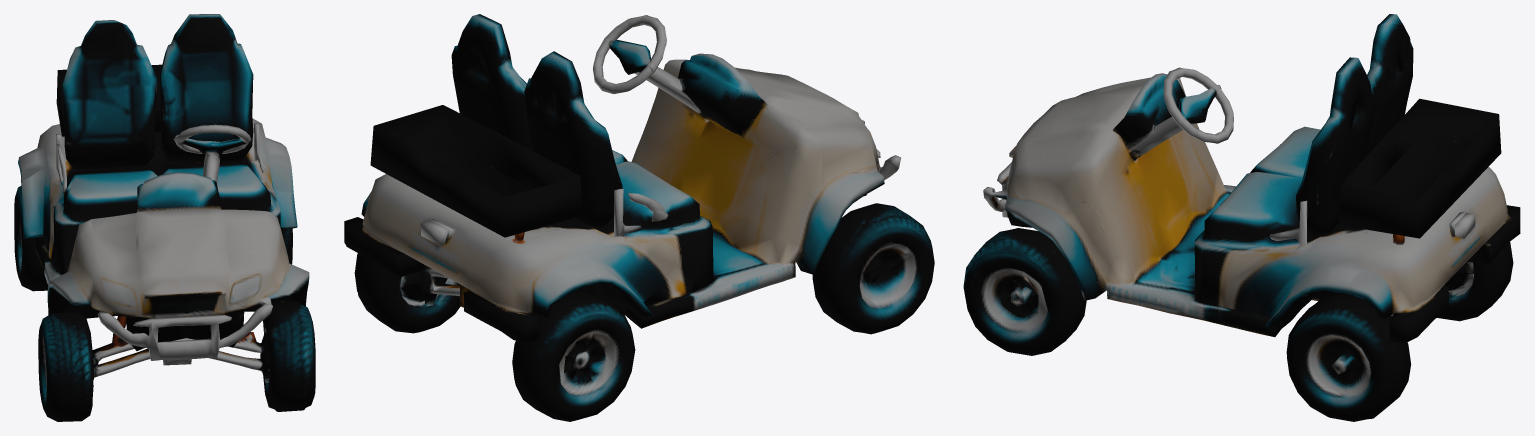
File: golf-cart.glb
3 renders of one model, left to right at view 1: azimuth 30°, elevation 25°; view 2: azimuth 150°, elevation 25°; view 3: azimuth 270°, elevation 25°, orthographic. The views are drawn at different scales.
Parts seen in each view (by area): view 1: tripo_part_72, passengerseat, driverseat, WHEEL_FR, WHEEL_FL, tripo_part_29, WHEEL_RR, steering; view 2: tripo_part_72, WHEEL_FR, WHEEL_RR, passengerseat, driverseat, WHEEL_RL, tripo_part_29, steering; view 3: tripo_part_72, WHEEL_RL, WHEEL_FL, driverseat, passengerseat, WHEEL_RR, tripo_part_29, steering.
Part boxes in pixels (x1=…): tripo_part_72: x1=18, y1=64, x2=309, y2=377; passengerseat: x1=62, y1=20, x2=157, y2=169; driverseat: x1=160, y1=14, x2=253, y2=162; WHEEL_FR: x1=38, y1=312, x2=93, y2=421; WHEEL_FL: x1=260, y1=301, x2=315, y2=411; tripo_part_29: x1=137, y1=172, x2=221, y2=212; WHEEL_RR: x1=14, y1=186, x2=48, y2=291; steering: x1=174, y1=124, x2=251, y2=153; tripo_part_72: x1=344, y1=39, x2=901, y2=342; WHEEL_FR: x1=812, y1=203, x2=934, y2=334; WHEEL_RR: x1=512, y1=290, x2=635, y2=421; passengerseat: x1=524, y1=51, x2=622, y2=228; driverseat: x1=451, y1=14, x2=533, y2=151; WHEEL_RL: x1=354, y1=253, x2=460, y2=333; tripo_part_29: x1=678, y1=53, x2=767, y2=138; steering: x1=592, y1=15, x2=666, y2=93; tripo_part_72: x1=983, y1=77, x2=1520, y2=342; WHEEL_RL: x1=1286, y1=294, x2=1411, y2=421; WHEEL_FL: x1=963, y1=228, x2=1086, y2=355; driverseat: x1=1296, y1=57, x2=1373, y2=237; passengerseat: x1=1366, y1=14, x2=1413, y2=155; WHEEL_RR: x1=1437, y1=242, x2=1513, y2=321; tripo_part_29: x1=1113, y1=73, x2=1185, y2=160; steering: x1=1163, y1=67, x2=1233, y2=143.
Bounding box in the file's own units: 0.8704 × 0.6287 × 1.
Materials: 1 (1 with a texture image).
